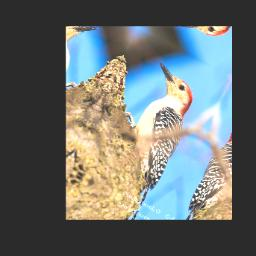Woodpecker: (98, 60, 208, 208)
